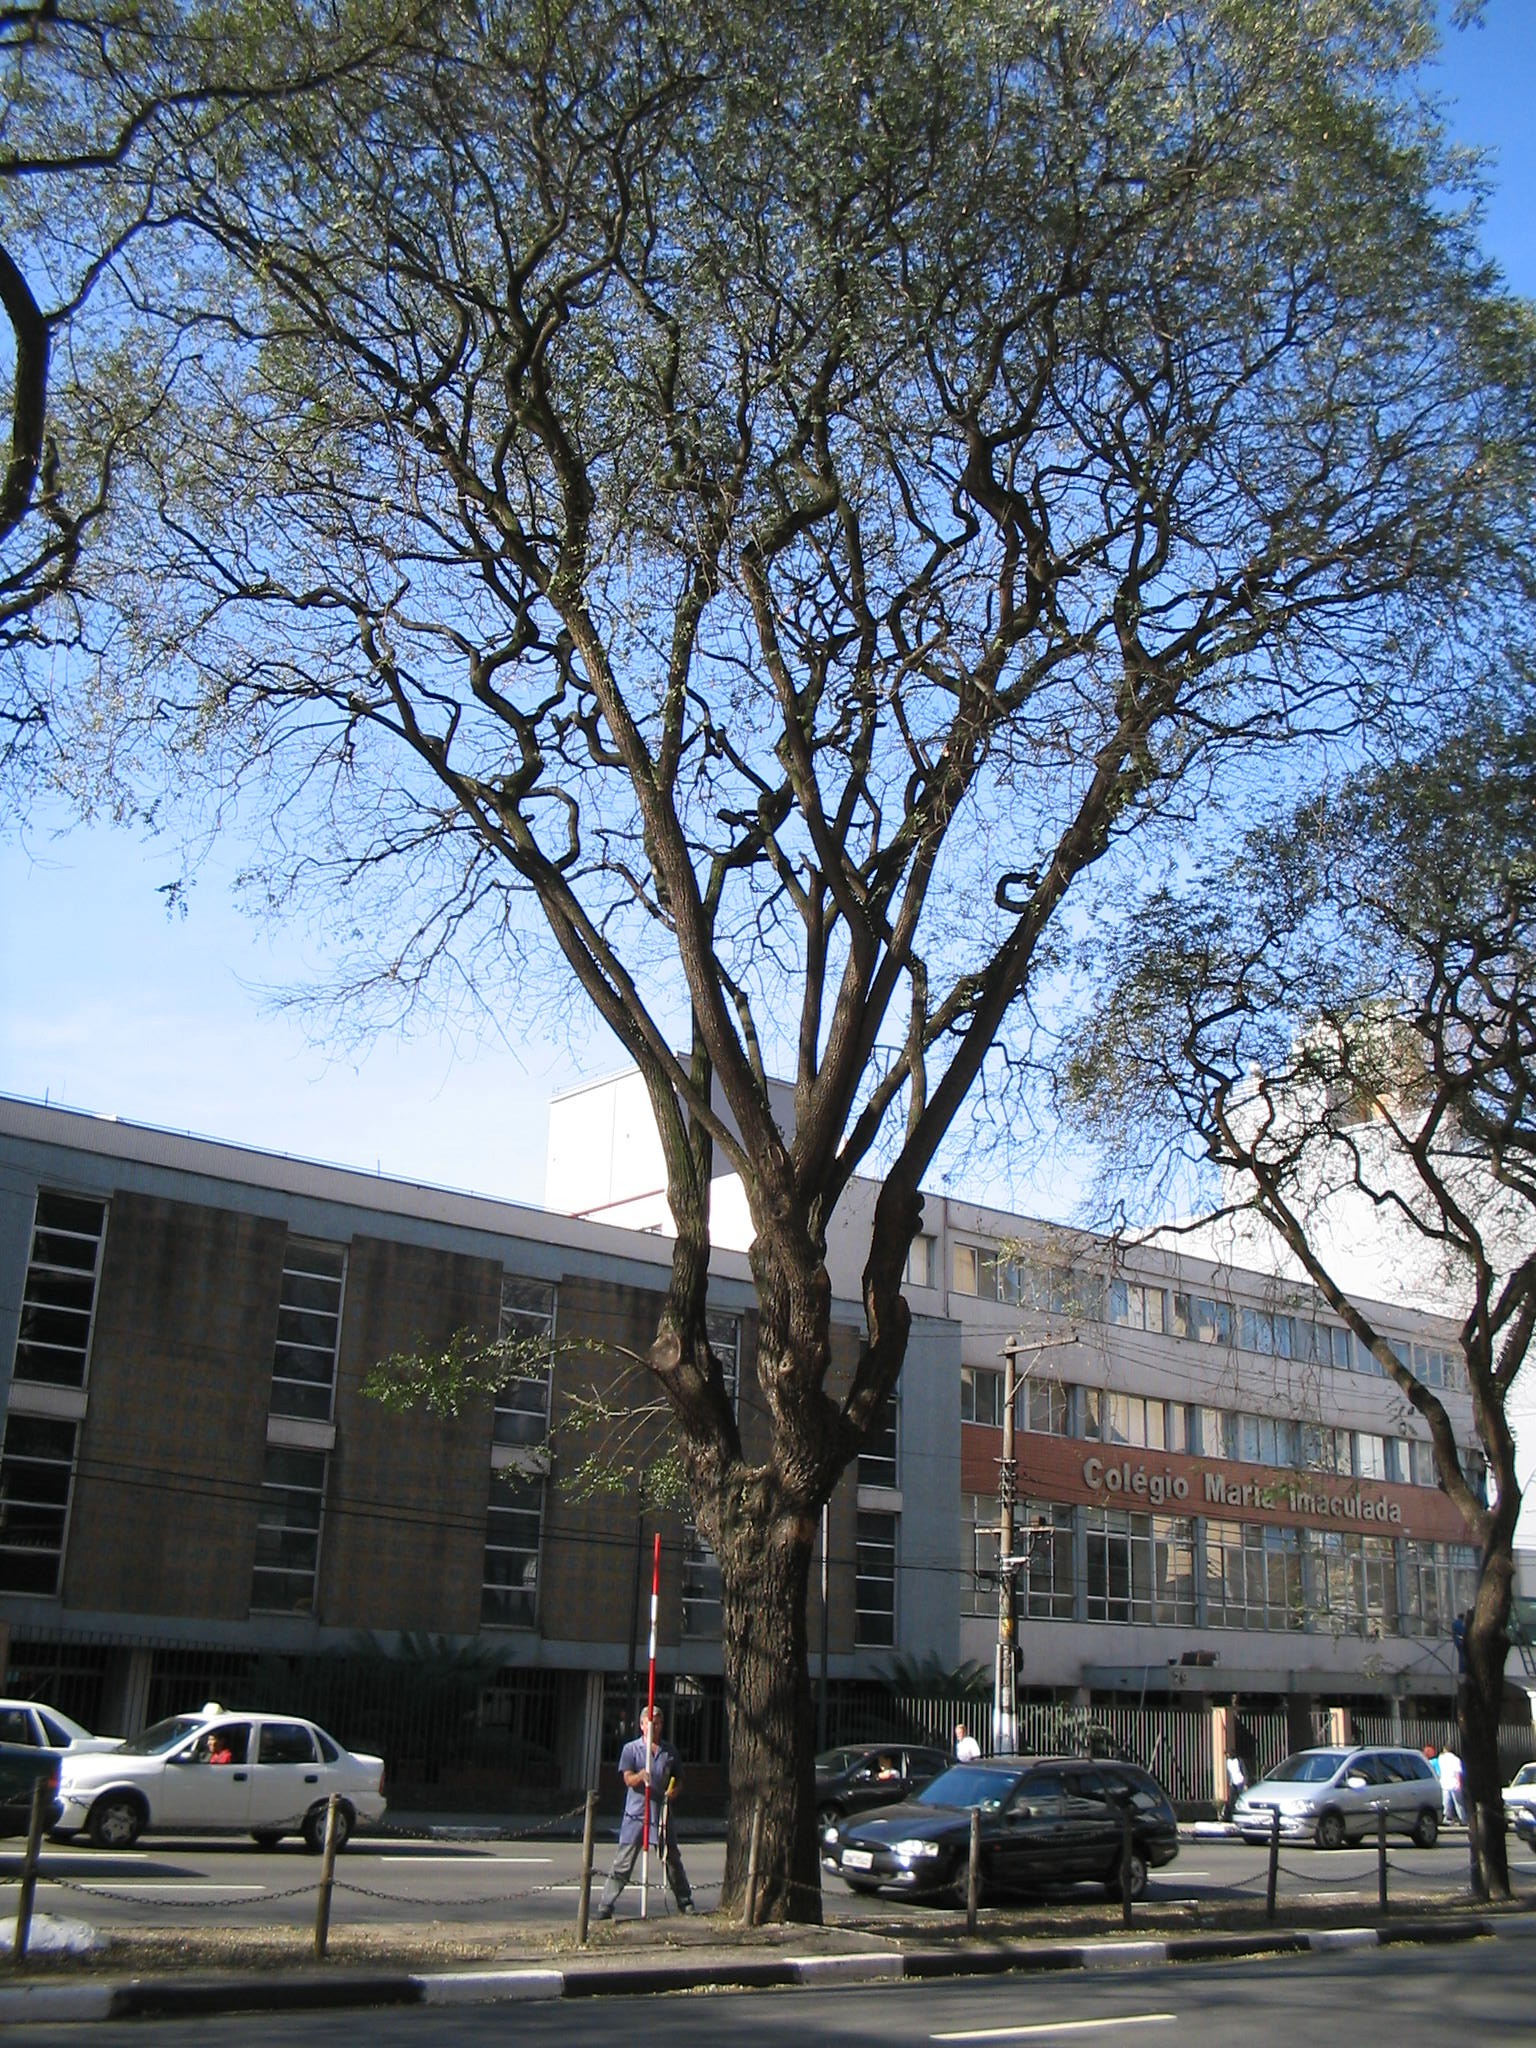crown: (16, 10, 1492, 1026), (1050, 740, 1530, 1288)
stem: (674, 1517, 874, 1917), (1430, 1561, 1525, 1896)
stick: (616, 1530, 671, 1917)
tree: (8, 2, 1501, 1919), (1041, 732, 1533, 1901)
